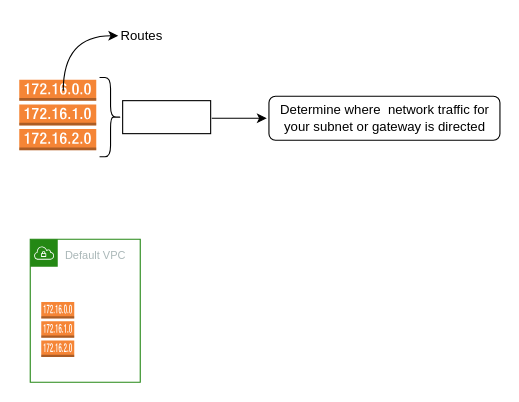
The diagram is 519 pixels wide and 402 high, and some of its shapes have lost their labels. The shapes that lost their labels are listed below. From the top down, each one's centre as x and y in pixels, then its label:
the point at 166,117: Set of rules
the point at 57,329: main
